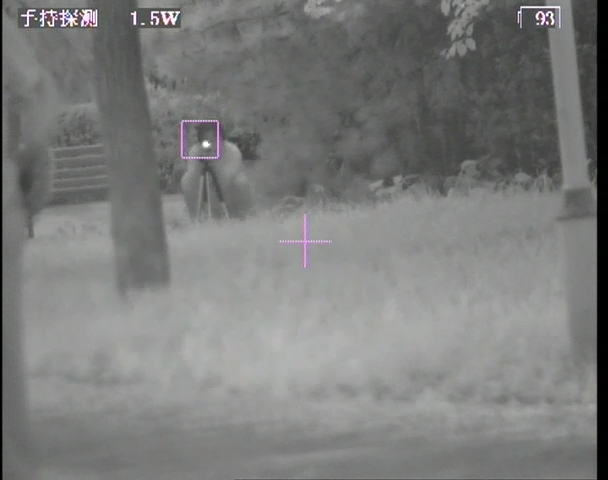my: (200, 140, 214, 151)
